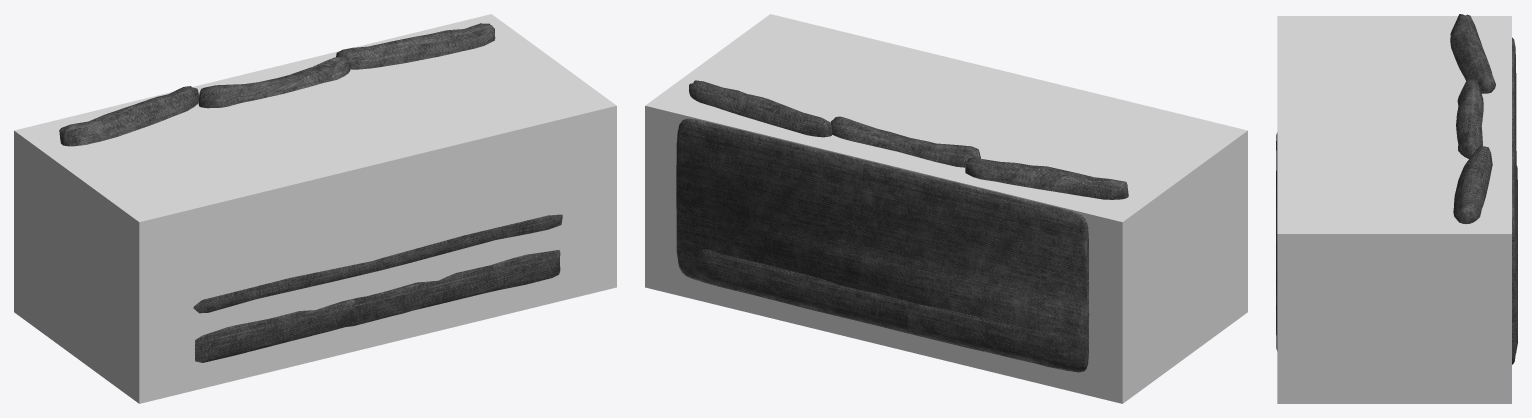
3 renders of one model, left to right at view 1: azimuth 30°, elevation 25°; view 2: azimuth 150°, elevation 25°; view 3: azimuth 270°, elevation 25°, orthographic. The views are drawn at different scales.
Parts seen in each view (by area): view 1: Cube, Cube.001; view 2: Cube, Cube.001; view 3: Cube, Cube.001.
Boxes of the visible parts, <box> form: Cube: <box>14,14,616,403</box>; Cube.001: <box>59,23,562,362</box>; Cube: <box>645,14,1247,403</box>; Cube.001: <box>676,80,1128,372</box>; Cube: <box>1277,16,1511,403</box>; Cube.001: <box>1276,14,1517,364</box>.
Bounding box in the file's own units: 2.2 × 0.8727 × 1.03.
Materials: 2 (1 with a texture image).
